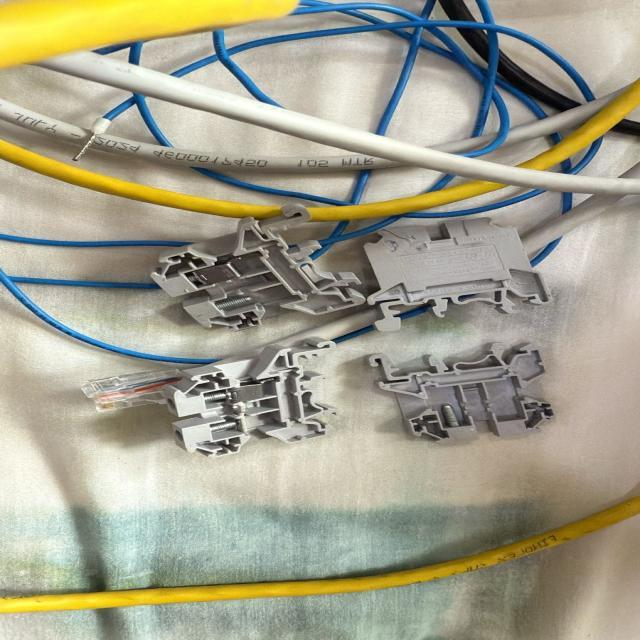Inverted: (365, 214, 545, 333)
Reject: (153, 201, 368, 335), (167, 337, 341, 456), (373, 343, 549, 443)
